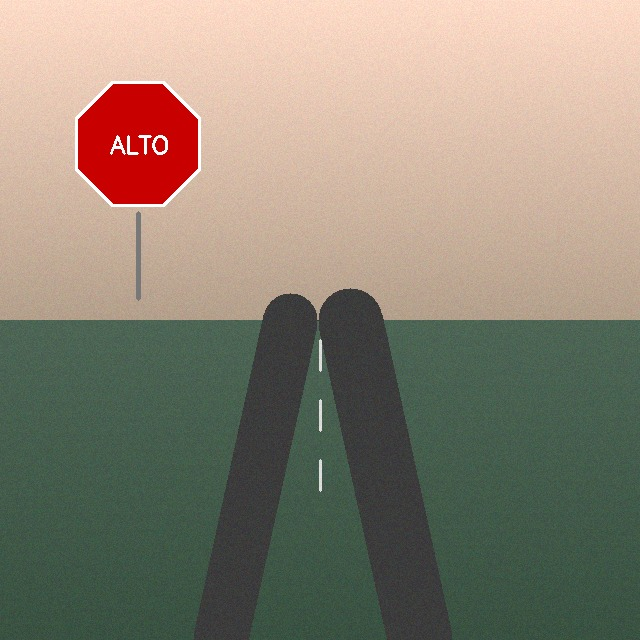alto: (69, 75, 207, 213)
